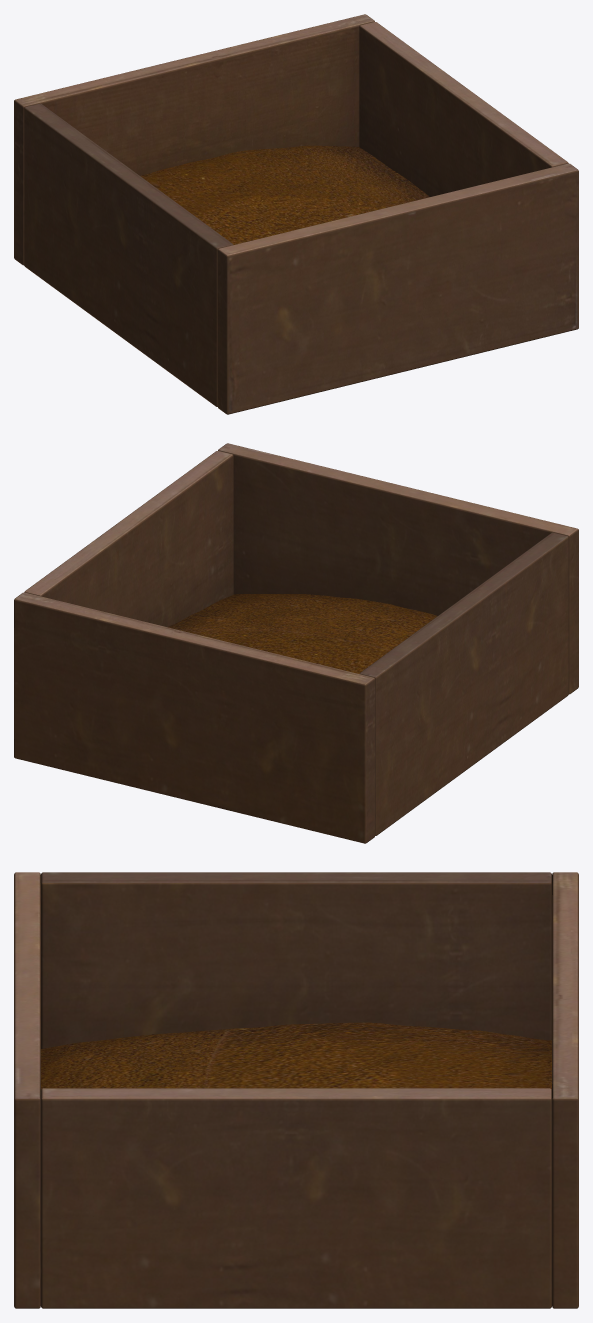
File: caixa_03_solo_formado.glb
The picture shows the model from 3 angles, top to bottom: view 1: azimuth 30°, elevation 25°; view 2: azimuth 150°, elevation 25°; view 3: azimuth 270°, elevation 25°; orthographic projection. The views are drawn at different scales.
Parts seen in each view (by area): view 1: Parede_Frontal_C03, Lateral_Esquerda_C03, Parede_Traseira_C03, Lateral_Direita_C03, Solo_Formado; view 2: Parede_Traseira_C03, Parede_Frontal_C03, Lateral_Esquerda_C03, Lateral_Direita_C03, Solo_Formado; view 3: Lateral_Direita_C03, Lateral_Esquerda_C03, Solo_Formado, Parede_Frontal_C03, Parede_Traseira_C03.
Part boxes in pixels (bbox=[...]): Parede_Frontal_C03: bbox=[217, 163, 578, 414]; Lateral_Esquerda_C03: bbox=[24, 103, 233, 406]; Parede_Traseira_C03: bbox=[14, 14, 374, 265]; Lateral_Direita_C03: bbox=[359, 22, 568, 196]; Solo_Formado: bbox=[140, 145, 429, 244]; Parede_Traseira_C03: bbox=[14, 592, 375, 843]; Parede_Frontal_C03: bbox=[218, 443, 578, 694]; Lateral_Esquerda_C03: bbox=[359, 532, 568, 835]; Lateral_Direita_C03: bbox=[24, 451, 233, 627]; Solo_Formado: bbox=[168, 594, 437, 673]; Lateral_Direita_C03: bbox=[41, 1088, 551, 1308]; Lateral_Esquerda_C03: bbox=[41, 872, 551, 1048]; Solo_Formado: bbox=[41, 1022, 551, 1089]; Parede_Frontal_C03: bbox=[14, 872, 40, 1308]; Parede_Traseira_C03: bbox=[552, 872, 578, 1308].
Size of the model in its own units: 0.3 by 0.13 by 0.315.
Materials: 2 (2 with a texture image).
